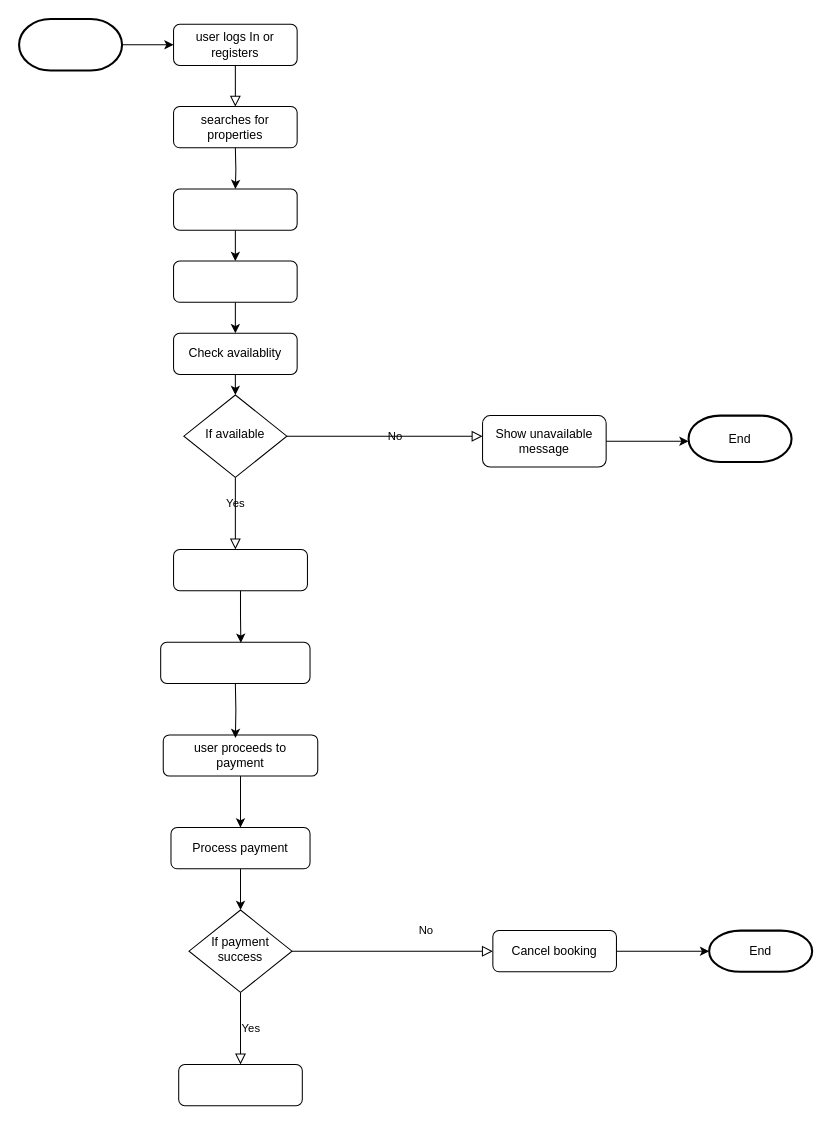
Some shapes in this 830 by 1124 pixel diagram are drawn without their labels. The shapes that lost their labels are listed below. From the top down, each one's centre as x and y in pixels, then its label:
At [70,44]: "Start".
At [235,209]: "selects a property".
At [235,281]: "Enters booking dates".
At [240,569]: "calculate total price".
At [235,662]: "Create booking record- status: pending".
At [240,1084]: "Replace Bulb".
